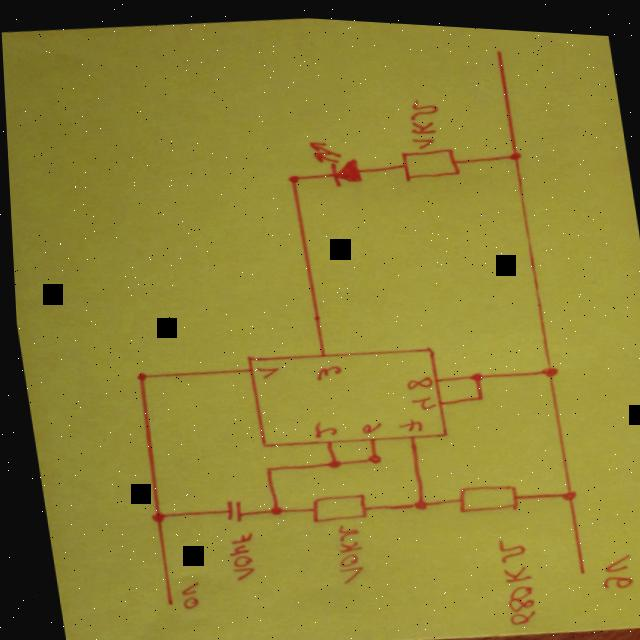capacitor: (214, 497, 241, 522)
diode: (306, 132, 361, 188)
junction: (142, 509, 162, 526), (535, 358, 556, 373), (406, 493, 424, 507), (505, 144, 522, 157), (556, 483, 573, 496), (465, 365, 481, 378), (361, 448, 377, 461), (321, 454, 338, 466), (284, 170, 299, 182), (130, 369, 145, 381), (263, 503, 278, 513), (257, 462, 270, 472), (470, 389, 482, 397)
resistor: (398, 141, 460, 180), (450, 476, 515, 511), (302, 487, 364, 522)
terminal: (491, 40, 506, 54), (157, 598, 172, 607), (570, 561, 583, 570)
text: (491, 531, 533, 622), (326, 518, 362, 582), (404, 92, 444, 146), (219, 528, 253, 581), (592, 546, 630, 584), (172, 579, 198, 610), (309, 359, 340, 380), (306, 415, 335, 437), (400, 369, 430, 387), (406, 390, 434, 408), (393, 412, 420, 430), (251, 361, 276, 377), (356, 417, 379, 432)
